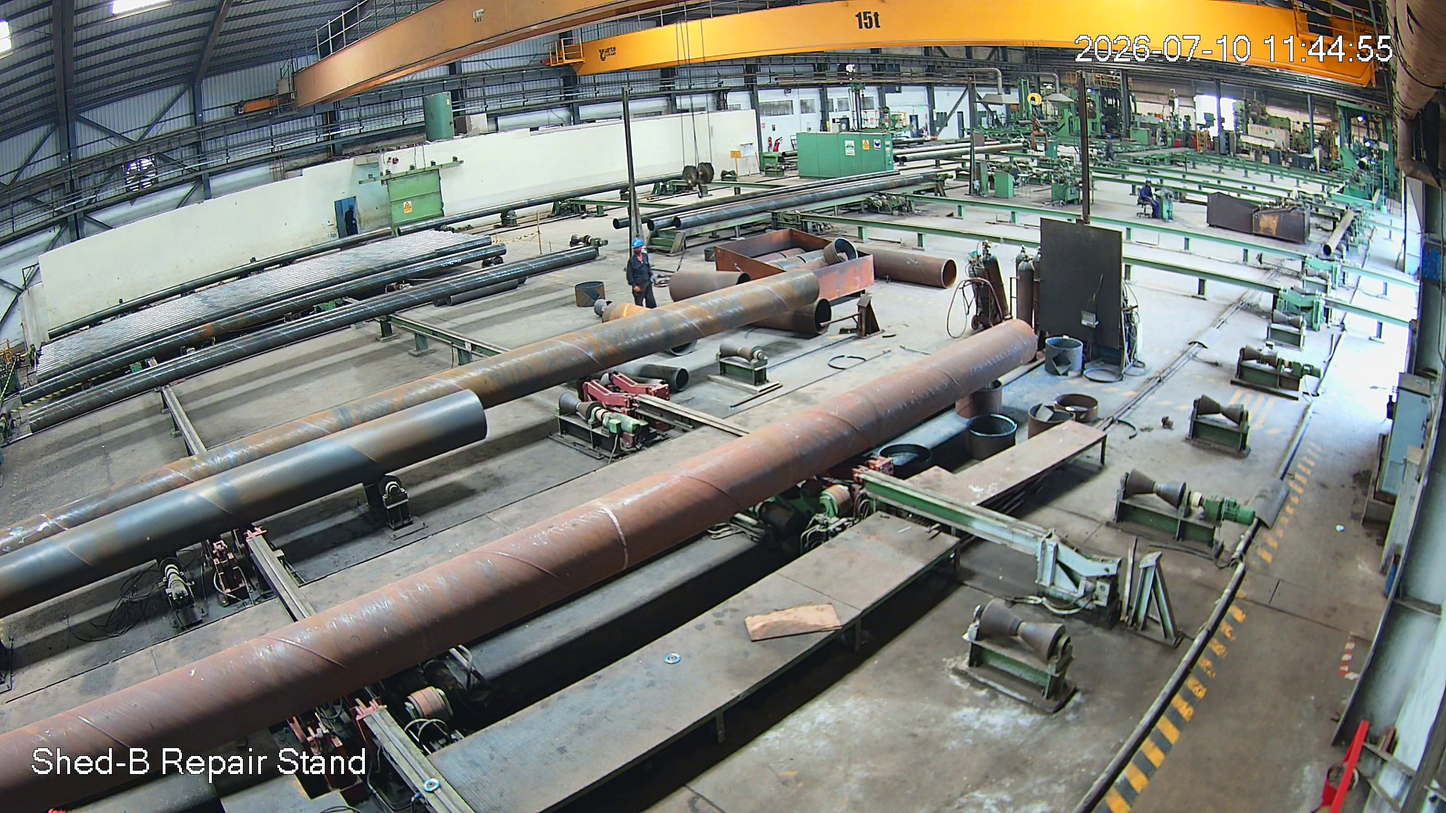Helmet: (631, 237, 652, 269), (1141, 175, 1155, 191)
Person: (623, 239, 661, 311), (1139, 177, 1162, 221)
